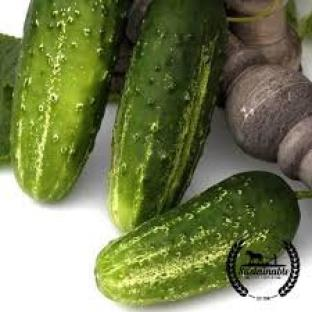Cucumber: (96, 172, 299, 305), (0, 34, 20, 163)
